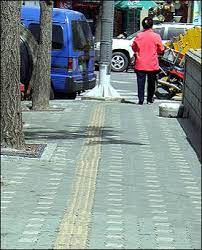guide_blocks: (49, 166, 95, 250), (79, 124, 102, 168), (91, 105, 105, 124)
